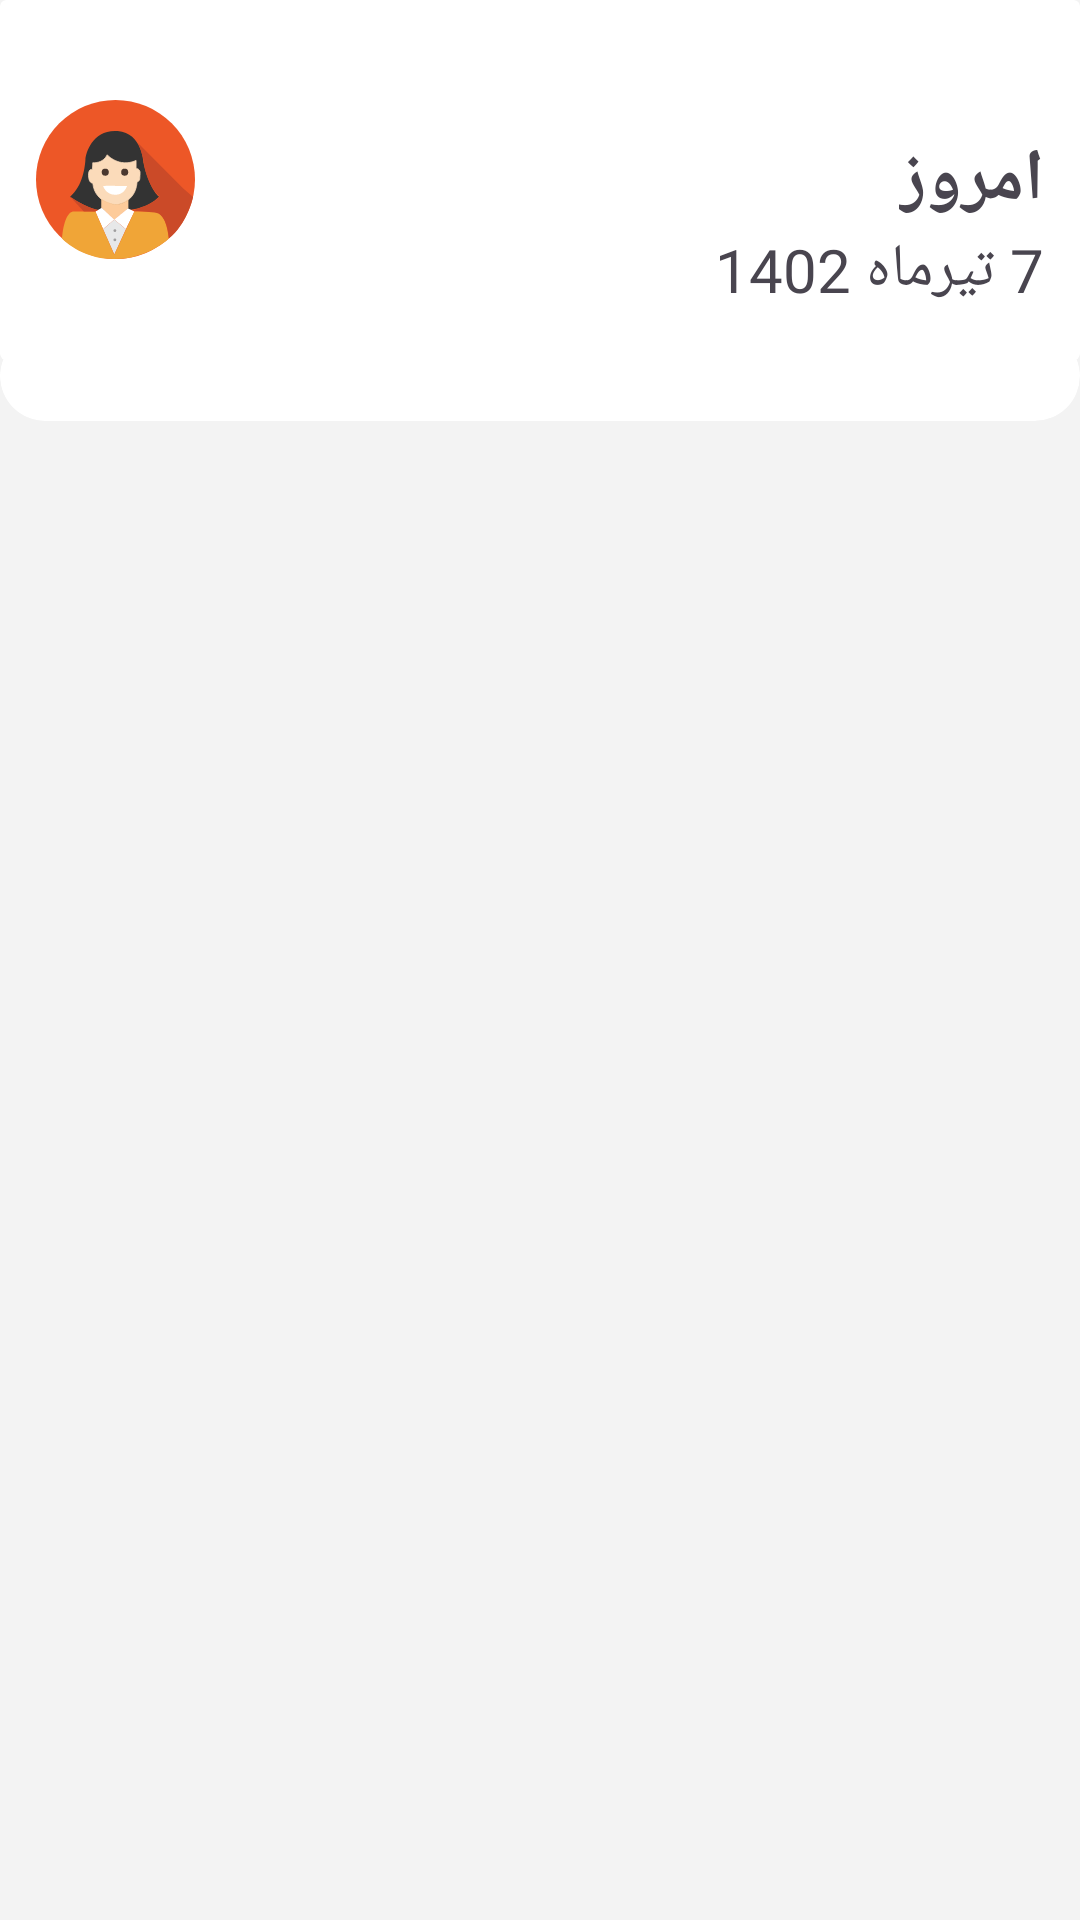

Locate icon controls on the screen. Image size 1080px×1920px, boxes as (x1, y1, x2, y2).
vectoravatar: (36, 100, 195, 259)
